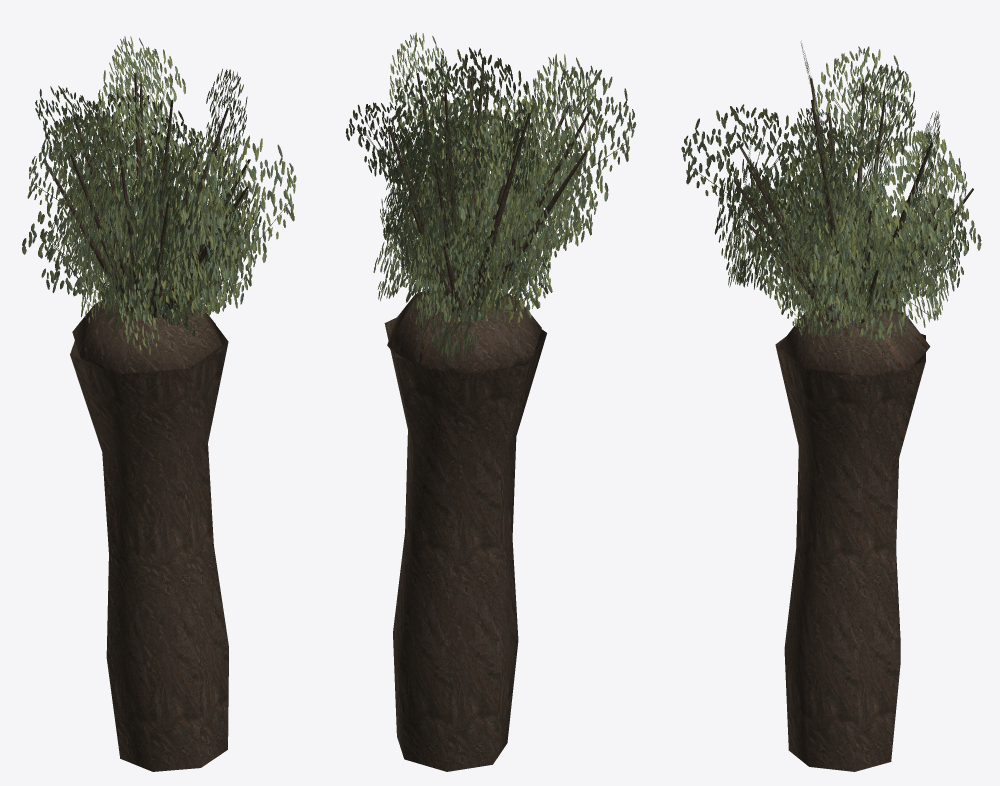
File: tpl_yard_old_yard_pollard_cut.glb
The picture shows the model from 3 angles, left to right: view 1: azimuth 30°, elevation 25°; view 2: azimuth 150°, elevation 25°; view 3: azimuth 270°, elevation 25°; orthographic projection. The views are drawn at different scales.
Visible parts, largest first — view 1: tpl_yard_old_yard_pollard_cut; view 2: tpl_yard_old_yard_pollard_cut; view 3: tpl_yard_old_yard_pollard_cut.
Boxes of the visible parts, x1,y1,x2,y2 form: tpl_yard_old_yard_pollard_cut: (22,36,296,771); tpl_yard_old_yard_pollard_cut: (345,32,636,771); tpl_yard_old_yard_pollard_cut: (681,41,981,771).
Bounding box in the file's own units: 1.57 × 4.29 × 1.78.
2 materials, 2 textured.
